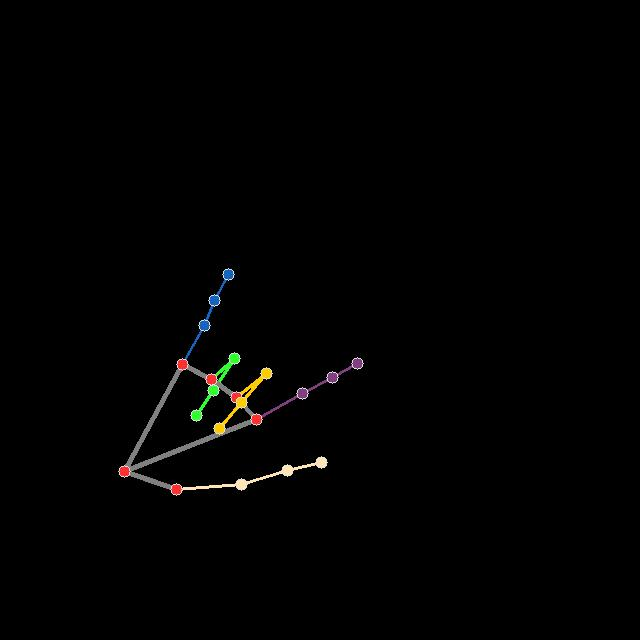spiderman: (119, 269, 364, 495)
